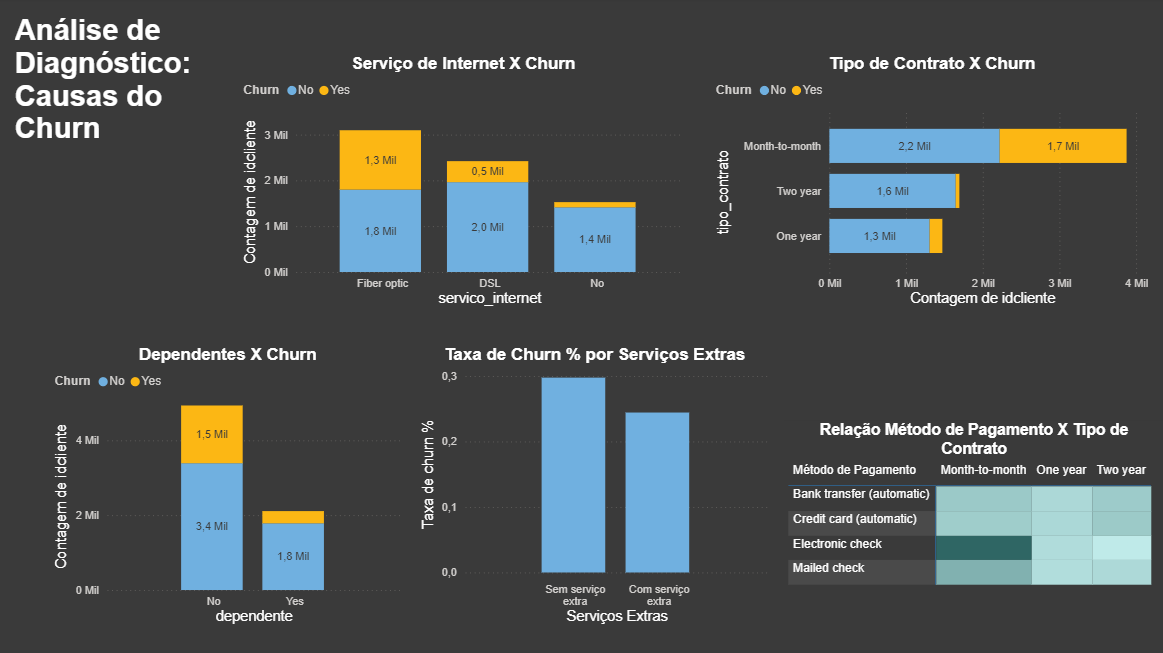

What the dashboard file says about the page in this screenshot:
{"tool":"powerbi","page":{"name":"Página 2","canvas":[1280,720],"ordinal":1},"visuals":[{"type":"columnChart","title":"Serviço de Internet X Churn","fields":{"Y":["CountNonNull(public tabela.idcliente)"],"Category":["public tabela.servico_internet"],"Series":["public tabela.churn"]},"box":[263.5,61.7,492.6,282.7],"z":0},{"type":"barChart","title":"Tipo de Contrato X Churn","fields":{"Y":["CountNonNull(public tabela.idcliente)"],"Category":["public tabela.tipo_contrato"],"Series":["public tabela.churn"]},"box":[782.2,61.7,484.4,282.7],"z":1000},{"type":"pivotTable","title":"Relação Método de Pagamento X Tipo de Contrato","fields":{"Values":["Count(public tabela.idcliente)"],"Rows":["public tabela.metodo_pagamento"],"Columns":["public tabela.tipo_contrato"]},"box":[862.1,465.5,417.2,191.4],"z":2000},{"type":"columnChart","title":"Taxa de Churn % por Serviços Extras","fields":{"Y":["Medidas.Taxa de churn %"],"Category":["public tabela.Serviços Extras"]},"box":[458.6,381,391.4,312.1],"z":3000},{"type":"columnChart","title":"Dependentes X Churn","fields":{"Y":["CountNonNull(public tabela.idcliente)"],"Category":["public tabela.dependente"],"Series":["public tabela.churn"]},"box":[56.9,381,389.7,312.1],"z":4000},{"type":"textbox","box":[12.3,13.7,208.6,163.3],"z":5000}]}

Visuals, with their boxes in screenshot pixels (x1, y1, x2, y2), scaled from the page's 1280x720 canvas onto the 1163x653 screenshot:
"Serviço de Internet X Churn" columnChart: [x1=239, y1=56, x2=687, y2=312]
"Tipo de Contrato X Churn" barChart: [x1=711, y1=56, x2=1151, y2=312]
"Relação Método de Pagamento X Tipo de Contrato" pivotTable: [x1=783, y1=422, x2=1162, y2=596]
"Taxa de Churn % por Serviços Extras" columnChart: [x1=417, y1=346, x2=772, y2=629]
"Dependentes X Churn" columnChart: [x1=52, y1=346, x2=406, y2=629]
textbox: [x1=11, y1=12, x2=201, y2=161]
